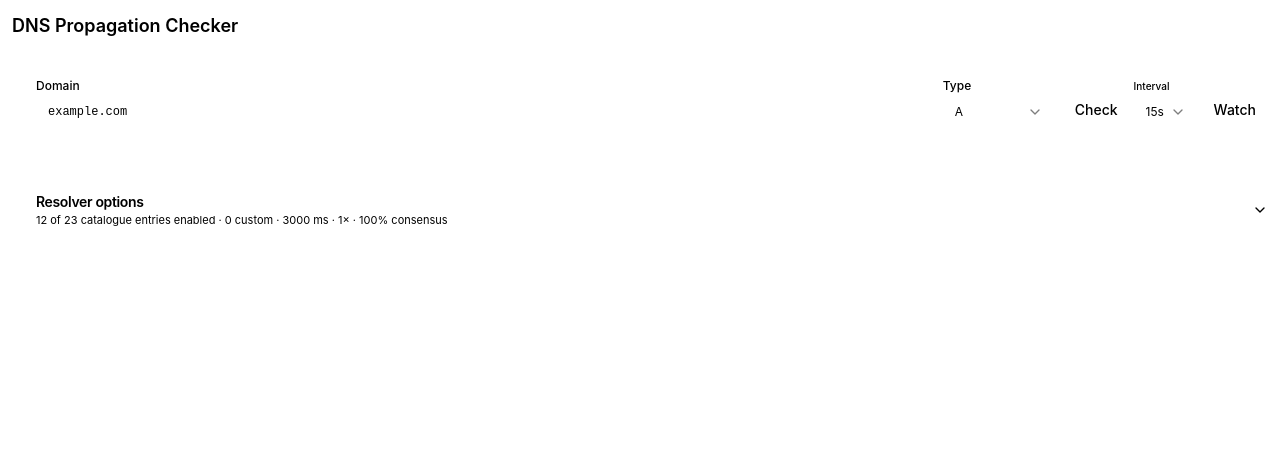
aborts superseded lookups and ignores stale results
Click the button "Check": x=1096, y=110 [1063, 92, 1130, 128]
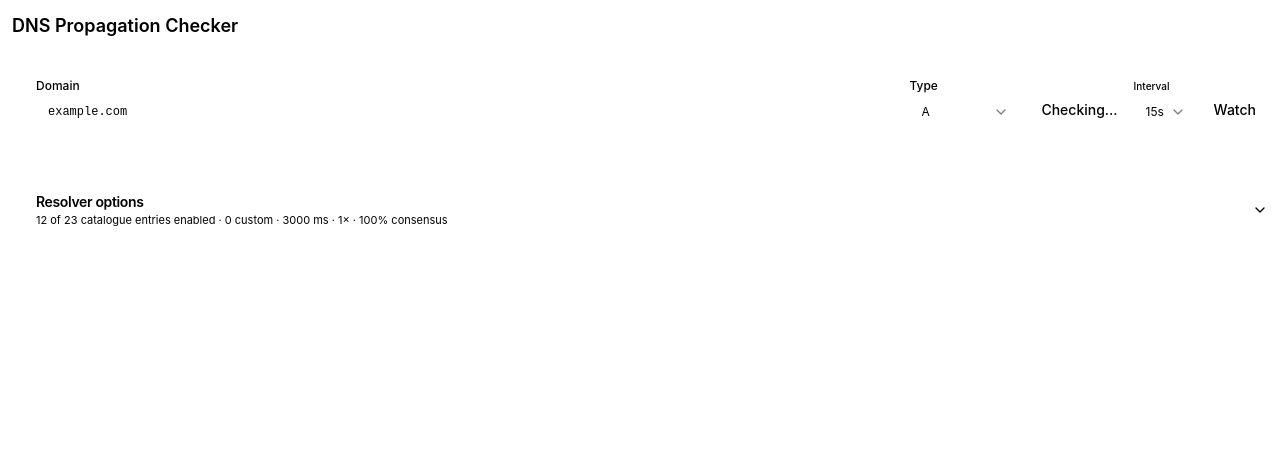
In the field with placeholder "example.com": x=469, y=112 [36, 96, 901, 128], type "new.example.com"
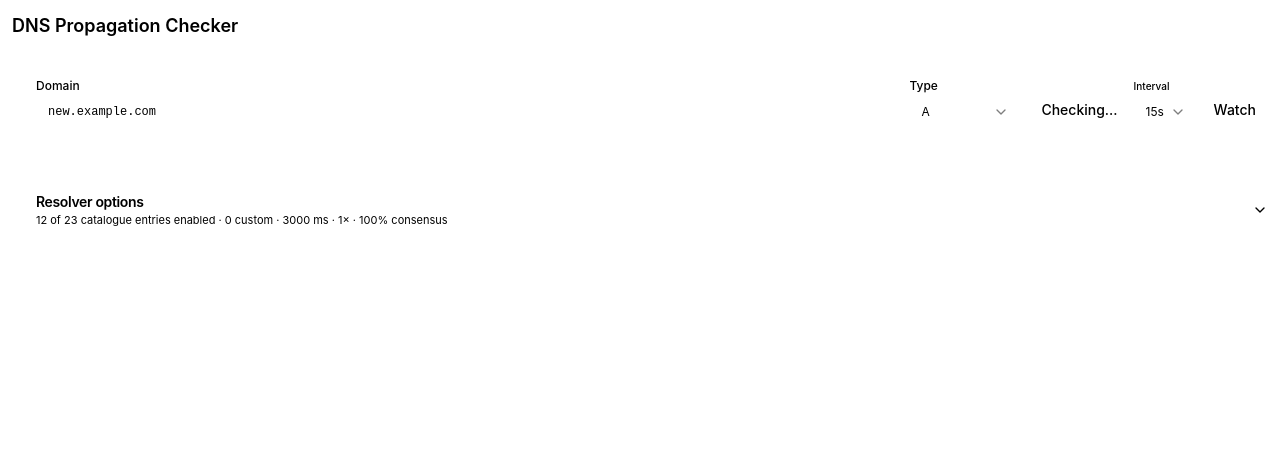
Press Enter in the field with placeholder "example.com", box [36, 96, 901, 128]
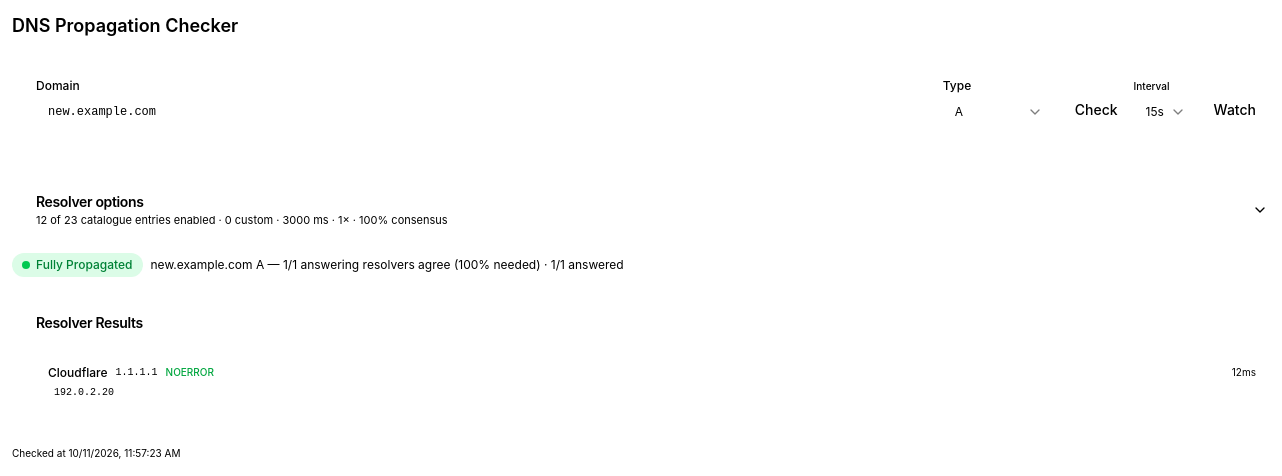
Expected: the text "192.0.2.20" is shown, [54, 386, 114, 398]
